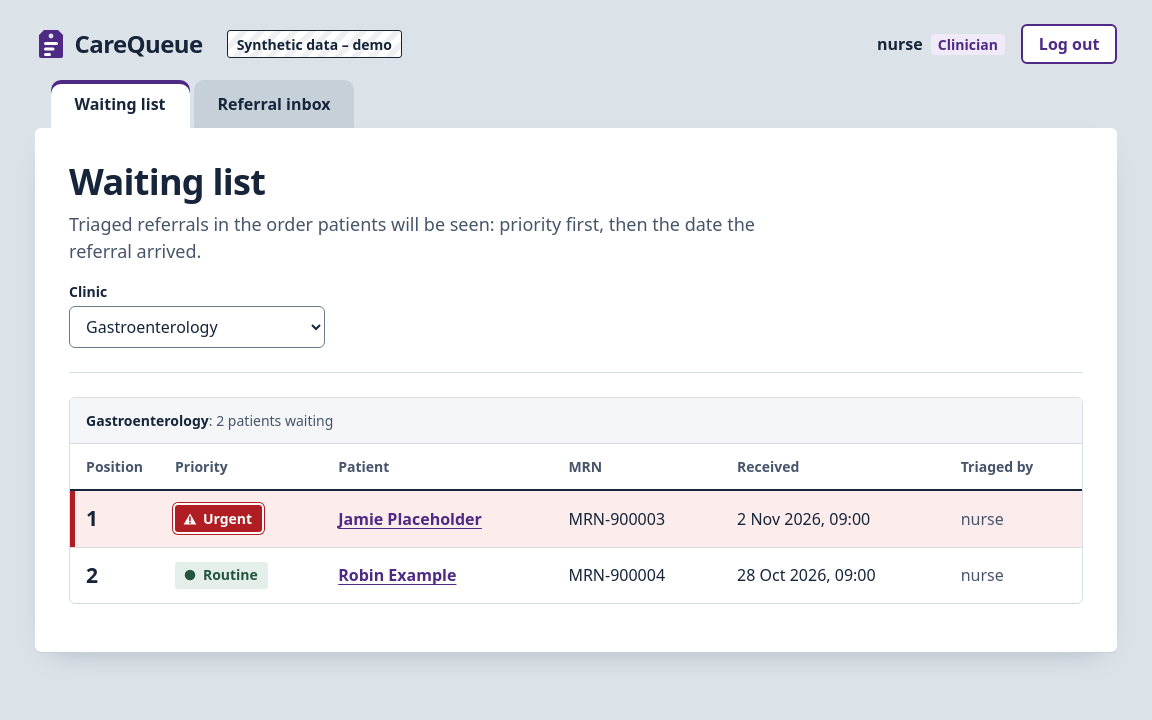
Scenario: route guard › logs out and forgets the session
Check: the heading "Waiting list" is shown, box [69, 157, 265, 206]
Click the button "Log out" at {"x": 1069, "y": 44}, box [1021, 24, 1118, 64]
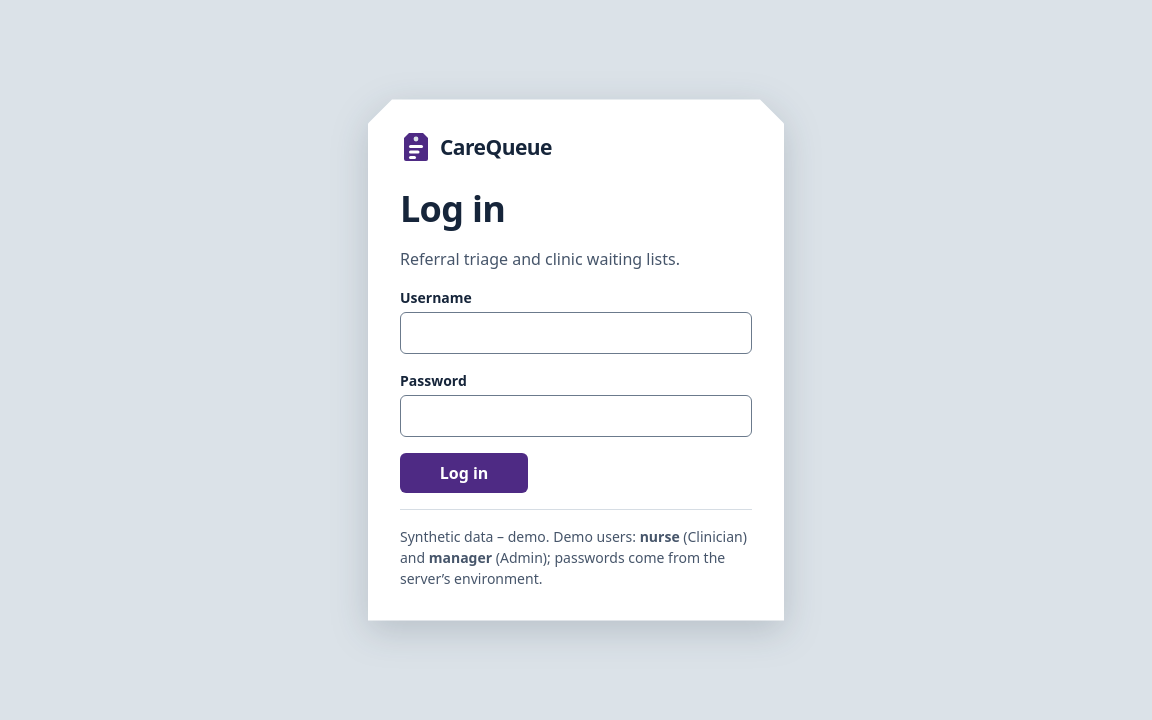
Check: the heading "Log in" is shown, box [400, 184, 505, 233]
